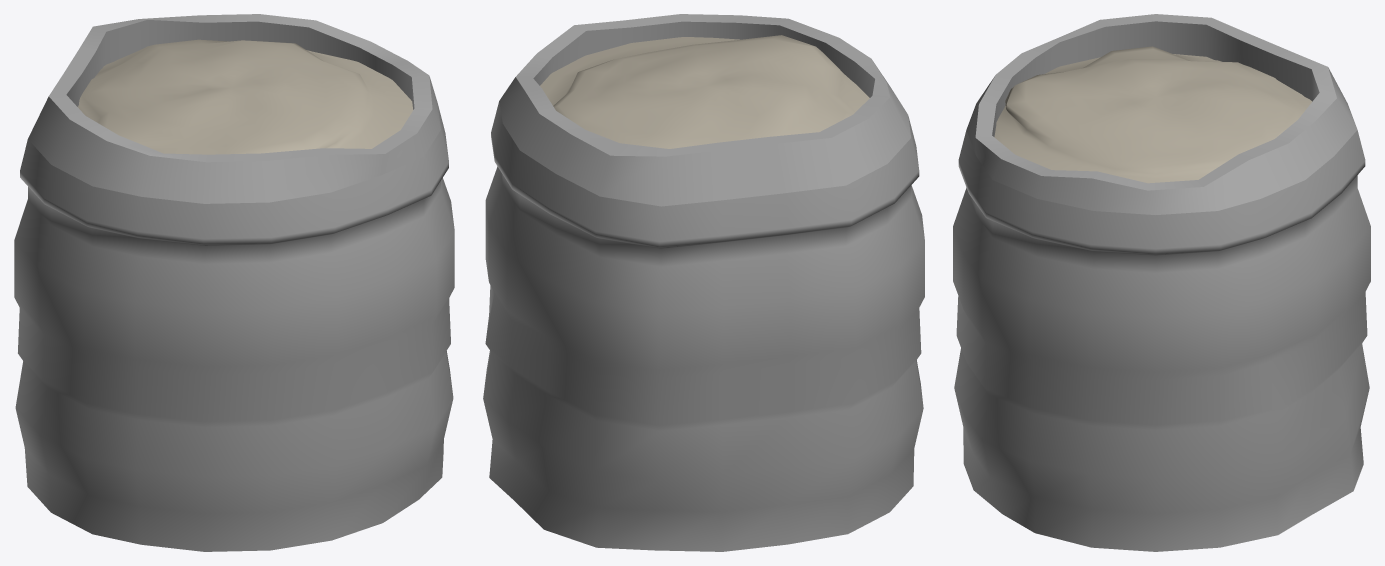
Rendered from SM_FlourBag.fbx.
3 views of the same model, side by side, from view 1: azimuth 30°, elevation 25°; view 2: azimuth 150°, elevation 25°; view 3: azimuth 270°, elevation 25° (orthographic). The views are drawn at different scales.
Parts seen in each view (by area): view 1: pCylinder26, pSphere12; view 2: pCylinder26, pSphere12; view 3: pCylinder26, pSphere12.
Boxes of the visible parts, x1,y1,x2,y2 form: pCylinder26: (14,14,454,551); pSphere12: (78,39,413,154); pCylinder26: (483,14,924,551); pSphere12: (540,35,869,148); pCylinder26: (953,14,1370,551); pSphere12: (994,46,1312,183).
Size of the model in its own units: 2986 by 2859 by 2900.
